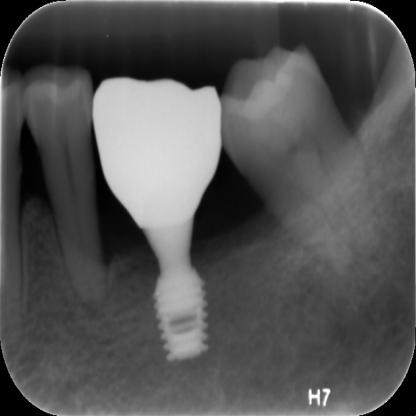Bicon: (131, 241, 230, 376)
